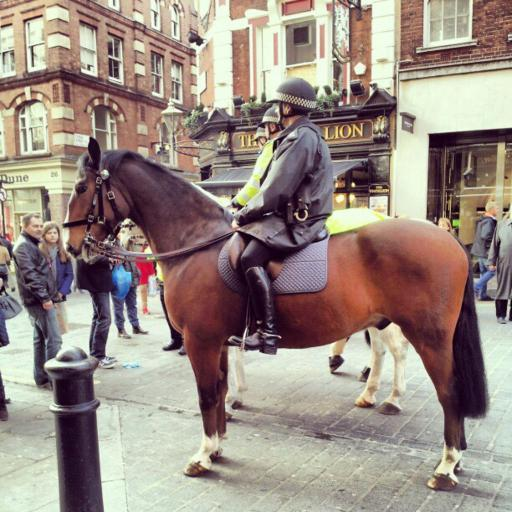horse: (58, 136, 492, 490)
